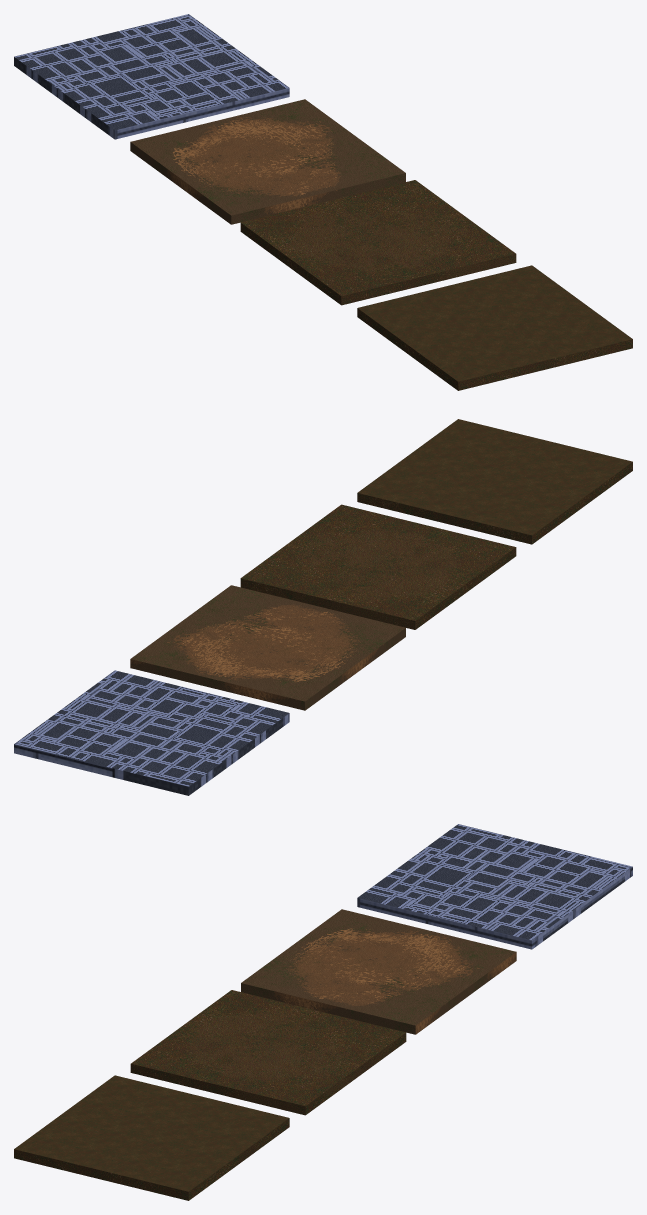
The model's file is zemlya1234.fbx.
The picture shows the model from 3 angles, top to bottom: view 1: azimuth 30°, elevation 25°; view 2: azimuth 150°, elevation 25°; view 3: azimuth 330°, elevation 25°; orthographic projection.
Visible parts, largest first — view 1: Cube.030, Cube.023, Cube.031, Cube.029; view 2: Cube.023, Cube.031, Cube.029, Cube.030; view 3: Cube.030, Cube.023, Cube.031, Cube.029.
Boxes of the visible parts, x1,y1,x2,y2 form: Cube.030: [240, 180, 516, 305]; Cube.023: [14, 14, 289, 139]; Cube.031: [357, 265, 632, 390]; Cube.029: [130, 99, 405, 224]; Cube.023: [14, 670, 289, 795]; Cube.031: [357, 419, 632, 544]; Cube.029: [130, 585, 405, 710]; Cube.030: [240, 504, 516, 629]; Cube.030: [130, 990, 406, 1115]; Cube.023: [357, 824, 632, 949]; Cube.031: [14, 1075, 289, 1200]; Cube.029: [241, 909, 516, 1034].
Bounding box in the file's own units: 2000 × 100 × 8805.
